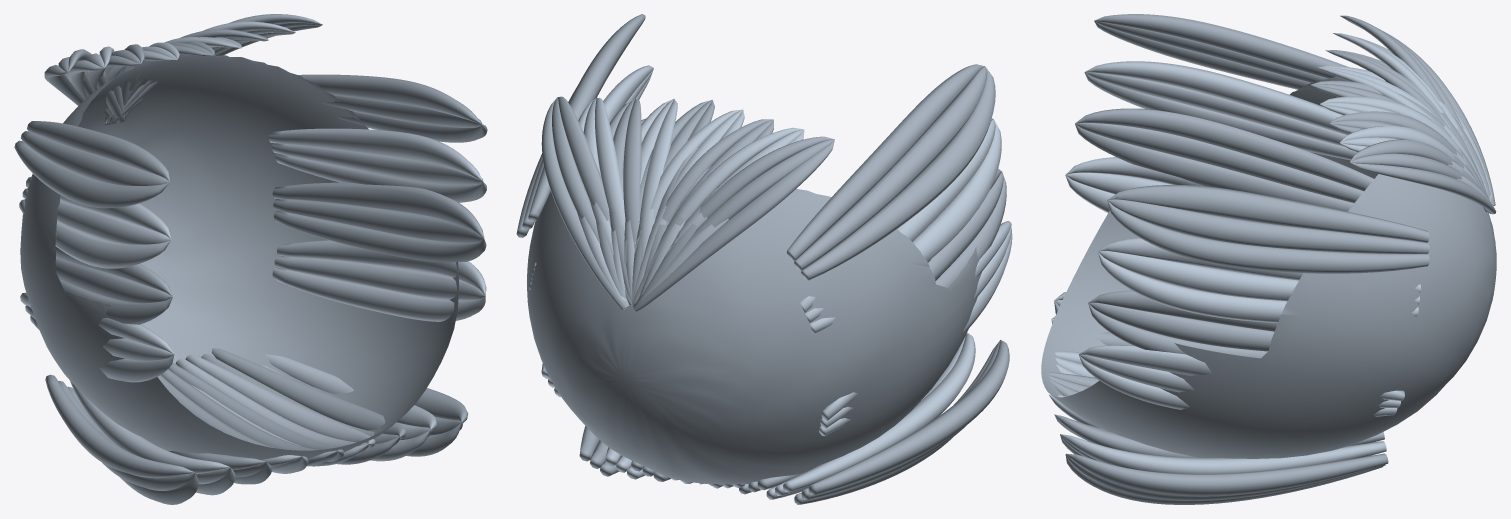
The picture shows the model from 3 angles, left to right: view 1: azimuth 30°, elevation 25°; view 2: azimuth 150°, elevation 25°; view 3: azimuth 270°, elevation 25°; orthographic projection. The views are drawn at different scales.
Parts seen in each view (by area): view 1: CrownHair_ref09, SideHair_1_2_Strand2, SideHair_1_3_Strand0, SideHair_1_1_Strand2, SideHair_1_3_Strand1, SideHair_1_2_Strand0, SideHair_1_2_Strand1, BackHair_06_Strand2, SideHair_1_0_Strand2, SideHair_-1_0_Strand2, SideHair_1_1_Strand1, BackHair_00_Strand0 (+38 smaller); view 2: CrownHair_ref09, SideHair_-1_0_Strand2, SideHair_-1_0_Strand0, SideHair_-1_0_Strand1, BackHair_00_Strand0, BackHair_01_Strand0, FrontHair_Part_00_Strand2, SideHair_-1_1_Strand2, SideHair_1_0_Strand2, FrontHair_Part_08_Strand0, FrontHair_Part_00_Strand1, SideHair_-1_1_Strand1 (+32 smaller); view 3: CrownHair_ref09, SideHair_1_0_Strand2, SideHair_1_0_Strand0, SideHair_1_0_Strand1, BackHair_08_Strand2, SideHair_-1_2_Strand0, SideHair_-1_1_Strand0, SideHair_-1_2_Strand1, SideHair_-1_2_Strand2, BackHair_07_Strand2, SideHair_-1_0_Strand0, SideHair_1_1_Strand1 (+35 smaller).
Boxes of the visible parts, bbox=[...] form: CrownHair_ref09: bbox=[20, 55, 458, 459]; SideHair_1_2_Strand2: bbox=[272, 182, 483, 237]; SideHair_1_3_Strand0: bbox=[272, 267, 485, 321]; SideHair_1_1_Strand2: bbox=[268, 128, 482, 180]; SideHair_1_3_Strand1: bbox=[274, 256, 485, 300]; SideHair_1_2_Strand0: bbox=[274, 210, 486, 262]; SideHair_1_2_Strand1: bbox=[273, 199, 484, 243]; BackHair_06_Strand2: bbox=[211, 348, 406, 439]; SideHair_1_0_Strand2: bbox=[298, 74, 480, 123]; SideHair_-1_0_Strand2: bbox=[14, 140, 169, 208]; SideHair_1_1_Strand1: bbox=[271, 143, 483, 185]; BackHair_00_Strand0: bbox=[45, 374, 194, 478]; CrownHair_ref09: bbox=[527, 189, 981, 484]; SideHair_-1_0_Strand2: bbox=[801, 67, 995, 280]; SideHair_-1_0_Strand0: bbox=[786, 64, 984, 260]; SideHair_-1_0_Strand1: bbox=[794, 66, 987, 270]; BackHair_00_Strand0: bbox=[808, 340, 1009, 495]; BackHair_01_Strand0: bbox=[783, 332, 975, 492]; FrontHair_Part_00_Strand2: bbox=[633, 140, 834, 311]; SideHair_-1_1_Strand2: bbox=[810, 120, 1001, 333]; SideHair_1_0_Strand2: bbox=[528, 14, 645, 221]; FrontHair_Part_08_Strand0: bbox=[541, 98, 629, 309]; FrontHair_Part_00_Strand1: bbox=[632, 139, 834, 305]; SideHair_-1_1_Strand1: bbox=[805, 119, 995, 323]; CrownHair_ref09: bbox=[1041, 76, 1496, 458]; SideHair_1_0_Strand2: bbox=[1108, 185, 1429, 242]; SideHair_1_0_Strand0: bbox=[1107, 200, 1429, 273]; SideHair_1_0_Strand1: bbox=[1107, 199, 1429, 253]; BackHair_08_Strand2: bbox=[1066, 453, 1388, 496]; SideHair_-1_2_Strand0: bbox=[1075, 108, 1373, 191]; SideHair_-1_1_Strand0: bbox=[1085, 61, 1349, 134]; SideHair_-1_2_Strand1: bbox=[1075, 123, 1363, 202]; SideHair_-1_2_Strand2: bbox=[1075, 124, 1353, 211]; BackHair_07_Strand2: bbox=[1060, 434, 1386, 474]; SideHair_-1_0_Strand0: bbox=[1094, 14, 1347, 78]; SideHair_1_1_Strand1: bbox=[1098, 250, 1419, 304].
Bounding box in the file's own units: 0.6195 × 0.6007 × 0.6529.
